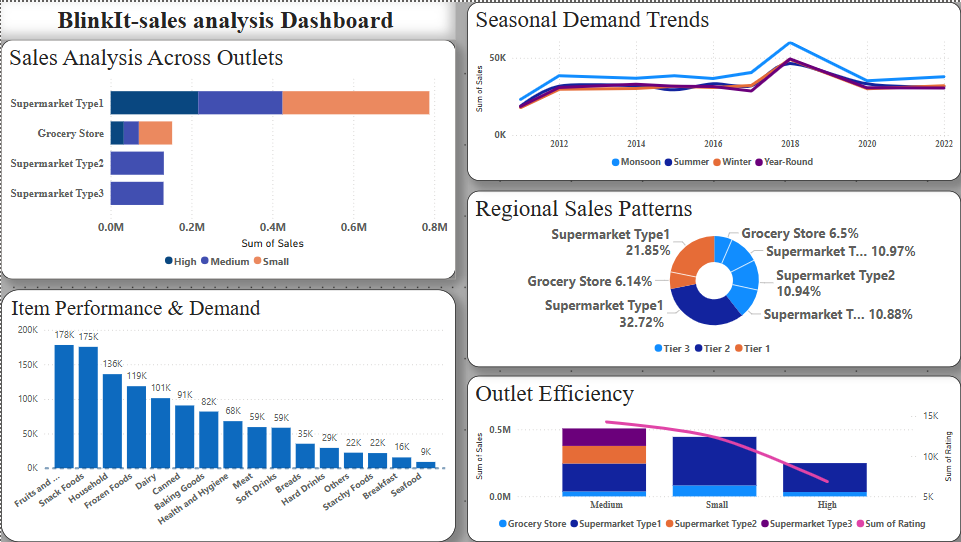

The page's visual inventory and layout, read from the dashboard file:
{"tool":"powerbi","page":{"name":"Page 1","canvas":[1280,720],"ordinal":0},"visuals":[{"type":"barChart","title":"Sales Analysis Across Outlets","fields":{"Y":["Sum(Table1.Sales)"],"Category":["Table1.Outlet Type"],"Series":["Table1.Outlet Size"]},"box":[0,50,606.7,320],"z":0},{"type":"columnChart","title":"Item Performance & Demand","fields":{"Category":["Table1.Item Type"],"Y":["Sum(Table1.Sales)"]},"box":[0,383.3,606.7,336.7],"z":1000},{"type":"lineStackedColumnComboChart","title":"Outlet Efficiency","fields":{"Category":["Table1.Outlet Size"],"Y":["Sum(Table1.Sales)"],"Series":["Table1.Outlet Type"],"Y2":["Sum(Table1.Rating)"]},"box":[621.7,498.3,658.3,221.7],"z":2000},{"type":"donutChart","title":"Regional Sales Patterns","fields":{"Category":["Table1.Outlet Location Type"],"Y":["Sum(Table1.Sales)"],"Series":["Table1.Outlet Type"]},"box":[621.7,251.7,658.3,235],"z":3000},{"type":"lineChart","title":"Seasonal Demand Trends ","fields":{"Category":["Table1.Outlet Establishment Year"],"Y":["Sum(Table1.Sales)"],"Series":["Table1.Seasonal Category"]},"box":[621.7,0,658.3,238.3],"z":4000},{"type":"textbox","box":[0,0,606.7,50],"z":5000}]}

Visuals, with their boxes in screenshot pixels (x1, y1, x2, y2), scaled from the page's 1280x720 canvas onto the 961x542 screenshot:
"Sales Analysis Across Outlets" barChart: <region>0, 38, 455, 279</region>
"Item Performance & Demand" columnChart: <region>0, 289, 455, 541</region>
"Outlet Efficiency" lineStackedColumnComboChart: <region>467, 375, 960, 541</region>
"Regional Sales Patterns" donutChart: <region>467, 189, 960, 366</region>
"Seasonal Demand Trends " lineChart: <region>467, 0, 960, 179</region>
textbox: <region>0, 0, 455, 38</region>
